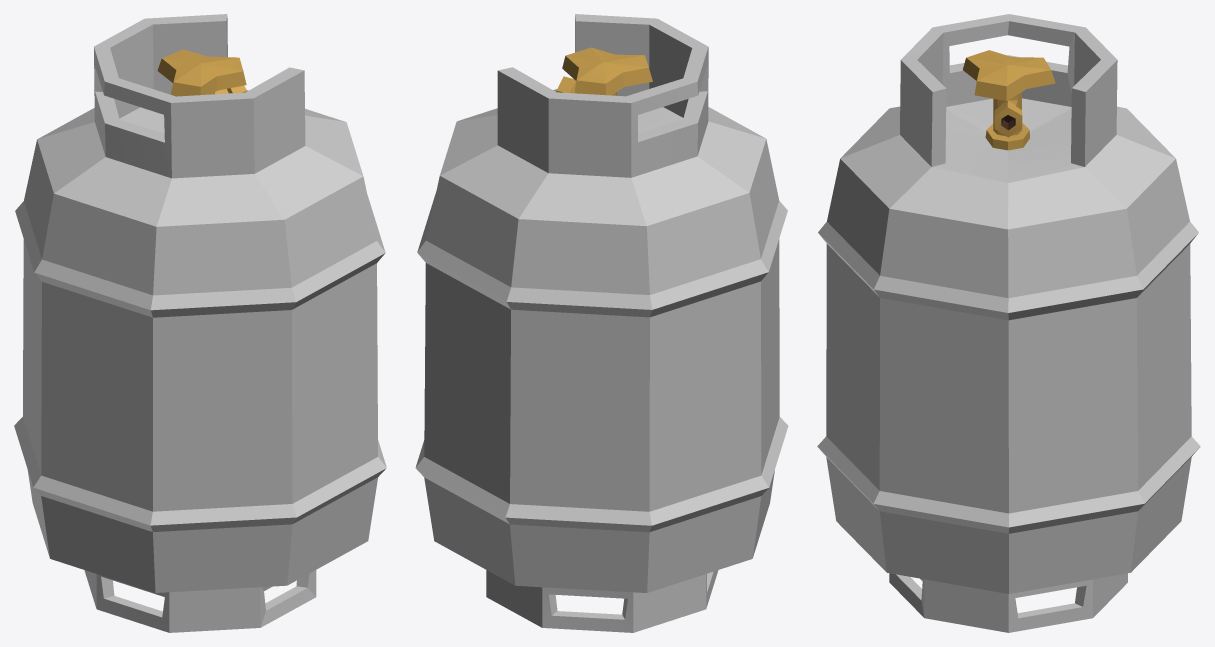
The model's file is SM_Prop_Propane_01.fbx.
3 renders of one model, left to right at view 1: azimuth 30°, elevation 25°; view 2: azimuth 150°, elevation 25°; view 3: azimuth 270°, elevation 25°, orthographic.
Visible parts, largest first — view 1: SM_Prop_Propane_01; view 2: SM_Prop_Propane_01; view 3: SM_Prop_Propane_01.
Boxes of the visible parts, left/top/right/bottom form: SM_Prop_Propane_01: left=14, top=14, right=386, bottom=632; SM_Prop_Propane_01: left=415, top=14, right=788, bottom=632; SM_Prop_Propane_01: left=817, top=14, right=1200, bottom=632.
Size of the model in its own units: 35.42 by 53.23 by 35.42.
